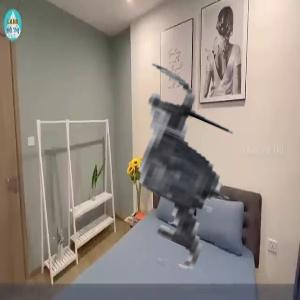drone: (80, 76, 279, 275)
